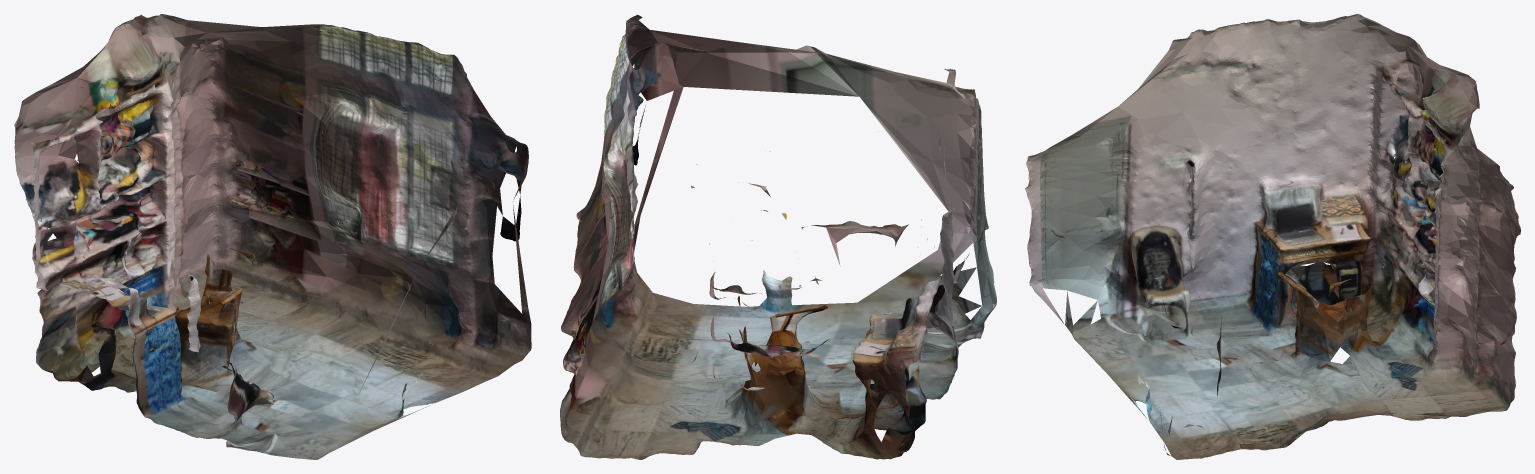
The model's file is home-web.glb.
3 renders of one model, left to right at view 1: azimuth 30°, elevation 25°; view 2: azimuth 150°, elevation 25°; view 3: azimuth 270°, elevation 25°, orthographic. The views are drawn at different scales.
Visible parts, largest first — view 1: mesh; view 2: mesh; view 3: mesh.
Boxes of the visible parts, x1=… form: mesh: x1=14, y1=14, x2=531, y2=459; mesh: x1=560, y1=14, x2=996, y2=459; mesh: x1=1025, y1=14, x2=1520, y2=459.
Bounding box in the file's own units: 3.91 × 2.96 × 4.52.
Materials: 1 (1 with a texture image).
